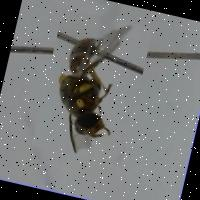Oriental-fruit-fly: (31, 6, 152, 164)
